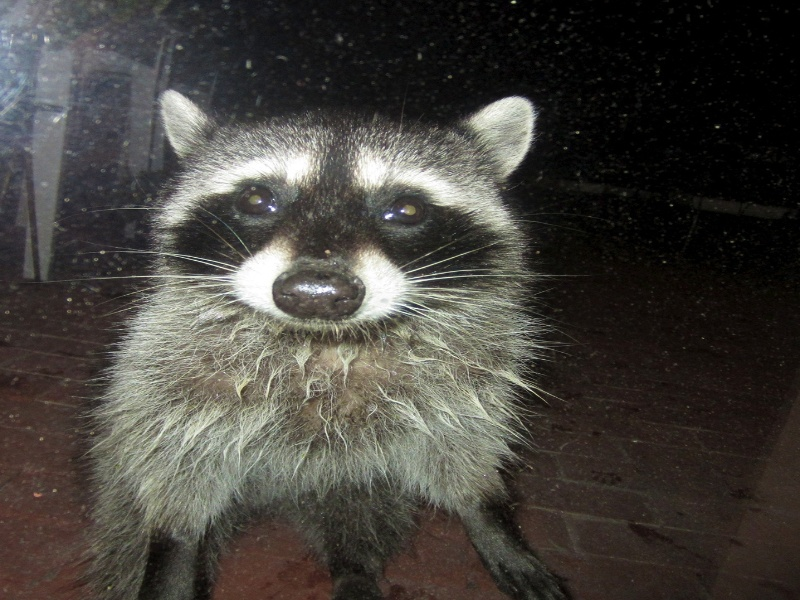raccoon: (89, 81, 564, 592)
